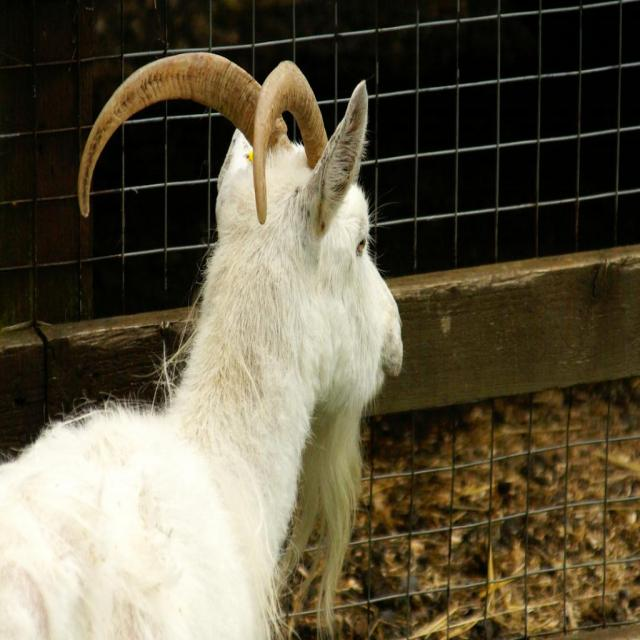Goat: (0, 50, 389, 640)
